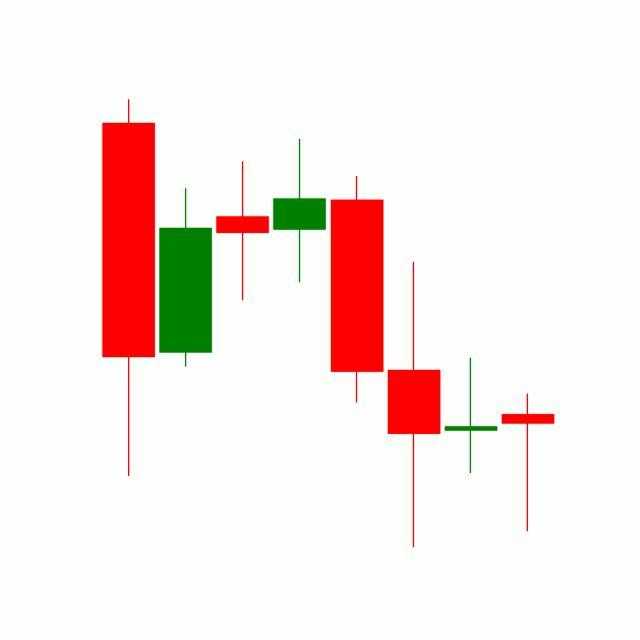Hikkake Pattern: (270, 134, 555, 548)
